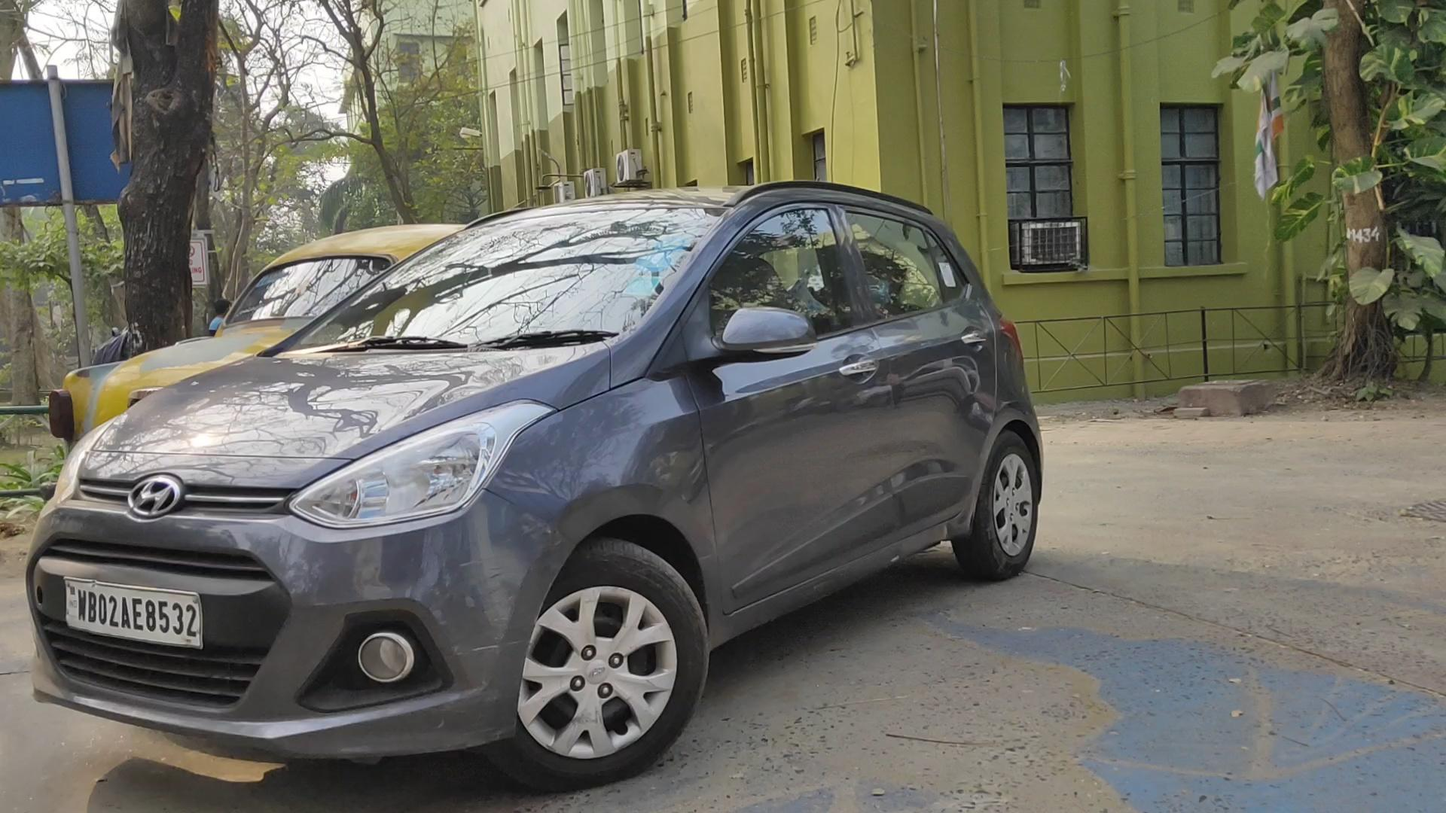car: (26, 179, 1044, 787)
